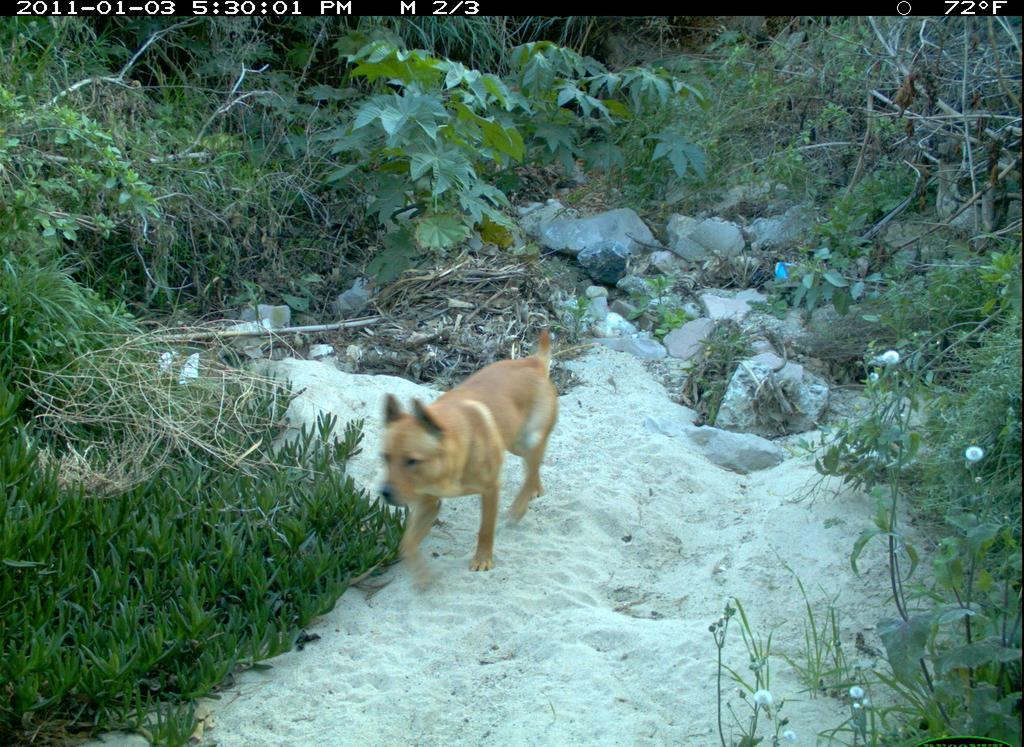dog: (363, 315, 575, 587)
